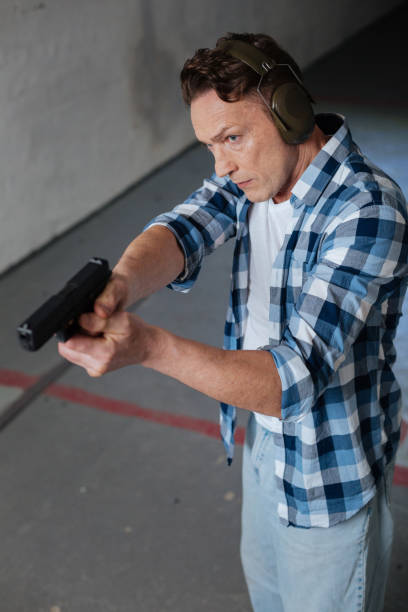gun: (16, 255, 113, 355)
